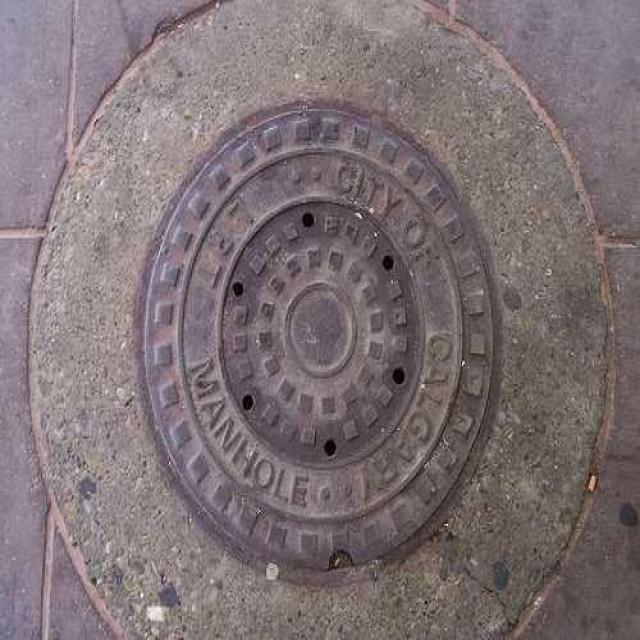manhole: (134, 101, 503, 582)
